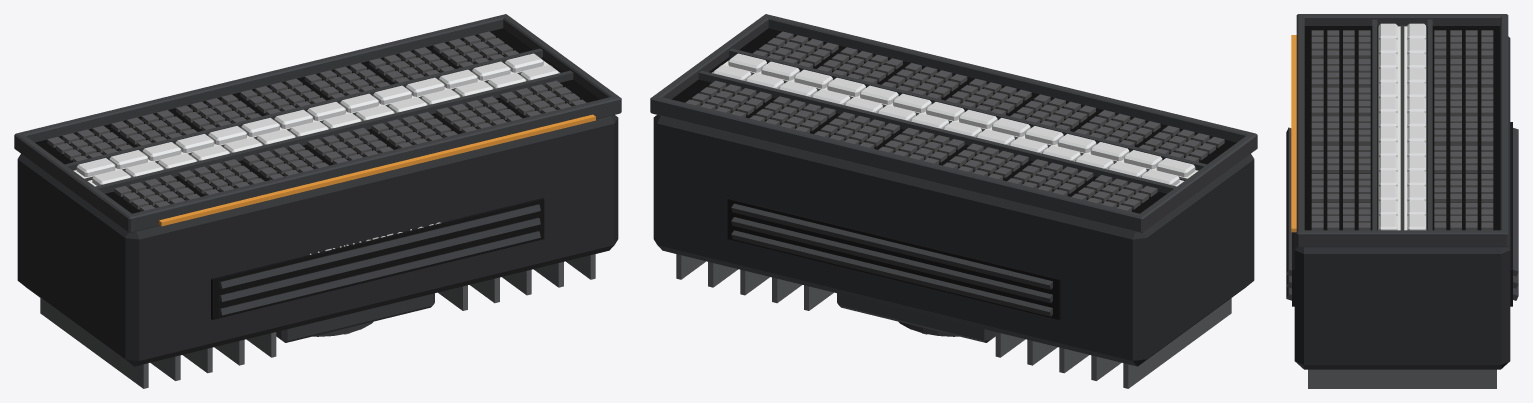
The model's file is csc_pulsestrike_m_head.obj.
3 renders of one model, left to right at view 1: azimuth 30°, elevation 25°; view 2: azimuth 150°, elevation 25°; view 3: azimuth 270°, elevation 25°, orthographic. The views are drawn at different scales.
Parts seen in each view (by area): view 1: head_csc_2f3033, head_csc_3f4043, head_csc_59595b, head_csc_e5e6e7, head_csc_161618, head_csc_616365, head_csc_0d0d0d, head_csc_f9a238, head_csc_f6f6f3; view 2: head_csc_2f3033, head_csc_3f4043, head_csc_59595b, head_csc_e5e6e7, head_csc_616365, head_csc_161618, head_csc_0d0d0d, head_csc_f6f6f3; view 3: head_csc_2f3033, head_csc_59595b, head_csc_3f4043, head_csc_0d0d0d, head_csc_e5e6e7, head_csc_616365, head_csc_f6f6f3, head_csc_f9a238, head_csc_161618.
Boxes of the visible parts, box(x1,y1,x2,y2) form: head_csc_2f3033: box(17, 115, 618, 366); head_csc_3f4043: box(14, 14, 621, 342); head_csc_59595b: box(47, 31, 586, 211); head_csc_e5e6e7: box(76, 53, 559, 185); head_csc_161618: box(211, 198, 544, 319); head_csc_616365: box(40, 254, 595, 388); head_csc_0d0d0d: box(35, 28, 600, 213); head_csc_f9a238: box(159, 114, 595, 226); head_csc_f6f6f3: box(73, 61, 559, 186); head_csc_2f3033: box(653, 115, 1254, 366); head_csc_3f4043: box(650, 14, 1257, 342); head_csc_59595b: box(685, 31, 1224, 211); head_csc_e5e6e7: box(712, 53, 1195, 185); head_csc_616365: box(676, 254, 1231, 388); head_csc_161618: box(727, 198, 1060, 319); head_csc_0d0d0d: box(671, 28, 1236, 213); head_csc_f6f6f3: box(712, 61, 1198, 186); head_csc_2f3033: box(1294, 36, 1510, 369); head_csc_59595b: box(1311, 30, 1493, 230); head_csc_3f4043: box(1286, 14, 1518, 300); head_csc_0d0d0d: box(1304, 26, 1500, 230); head_csc_e5e6e7: box(1379, 23, 1425, 230); head_csc_616365: box(1308, 369, 1496, 388); head_csc_f6f6f3: box(1378, 26, 1426, 230); head_csc_f9a238: box(1291, 35, 1296, 232); head_csc_161618: box(1292, 122, 1512, 306).
Size of the model in its own units: 1 by 0.3847 by 0.4481.
